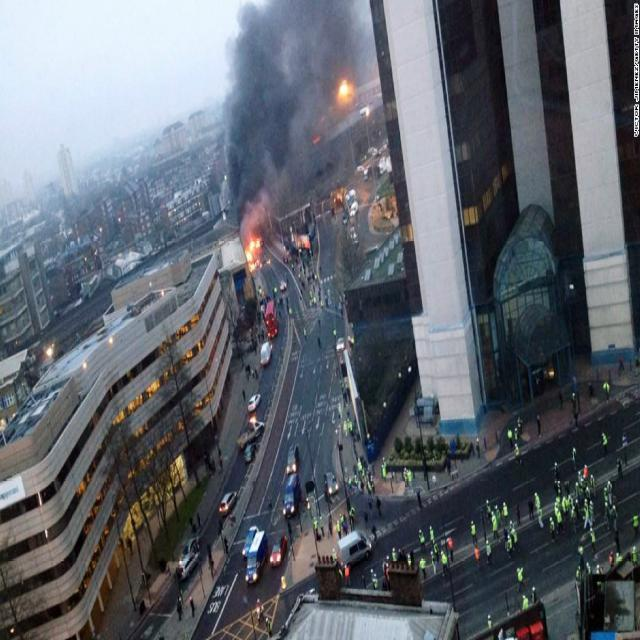Fire: (331, 73, 359, 110), (242, 232, 264, 275)
